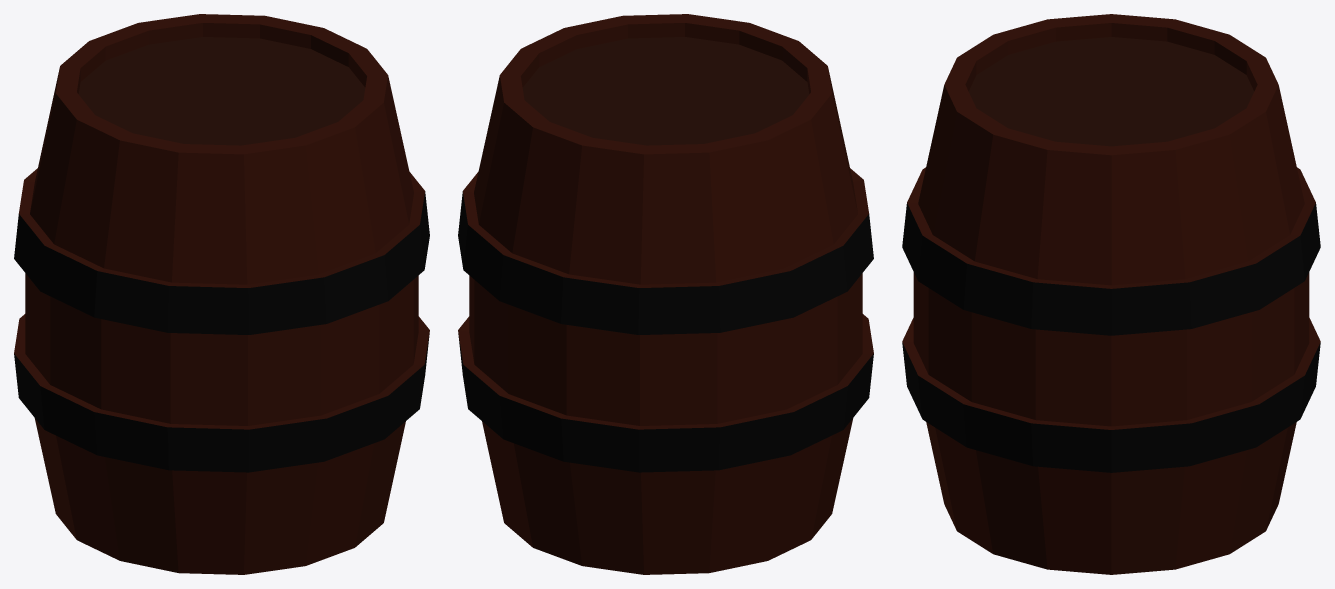
Rendered from barrel_1.fbx.
3 renders of one model, left to right at view 1: azimuth 30°, elevation 25°; view 2: azimuth 150°, elevation 25°; view 3: azimuth 270°, elevation 25°, orthographic.
Visible parts, largest first — view 1: barrel; view 2: barrel; view 3: barrel.
Part boxes in pixels (x1,y1,x2,y2): barrel: (14, 14, 429, 574); barrel: (458, 14, 873, 574); barrel: (902, 14, 1320, 574).
Size of the model in its own units: 326 by 360 by 326.
